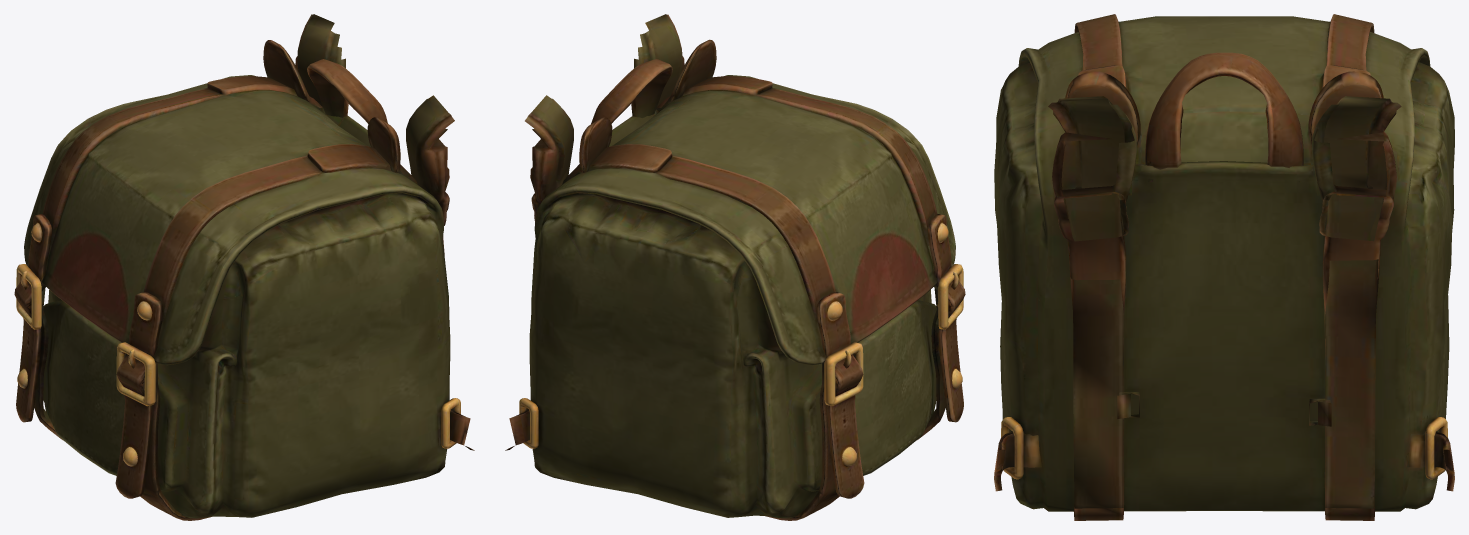
The model's file is pack_v5.glb.
The picture shows the model from 3 angles, left to right: view 1: azimuth 30°, elevation 25°; view 2: azimuth 150°, elevation 25°; view 3: azimuth 270°, elevation 25°; orthographic projection. The views are drawn at different scales.
Visible parts, largest first — view 1: tripo_7004ccb3_87d0_42ef_9258_d3ab078a85bc; view 2: tripo_7004ccb3_87d0_42ef_9258_d3ab078a85bc; view 3: tripo_7004ccb3_87d0_42ef_9258_d3ab078a85bc.
Part boxes in pixels (x1,y1,x2,y2): tripo_7004ccb3_87d0_42ef_9258_d3ab078a85bc: [14, 14, 474, 520]; tripo_7004ccb3_87d0_42ef_9258_d3ab078a85bc: [505, 14, 965, 520]; tripo_7004ccb3_87d0_42ef_9258_d3ab078a85bc: [994, 14, 1454, 520].
Size of the model in its own units: 0.2778 by 0.31 by 0.2884.
Materials: 1 (1 with a texture image).
